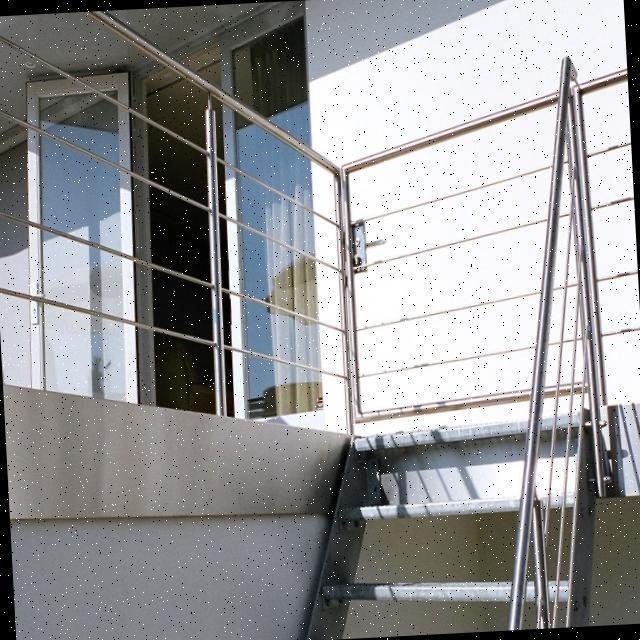fence line: (7, 18, 337, 452), (276, 138, 639, 445)
